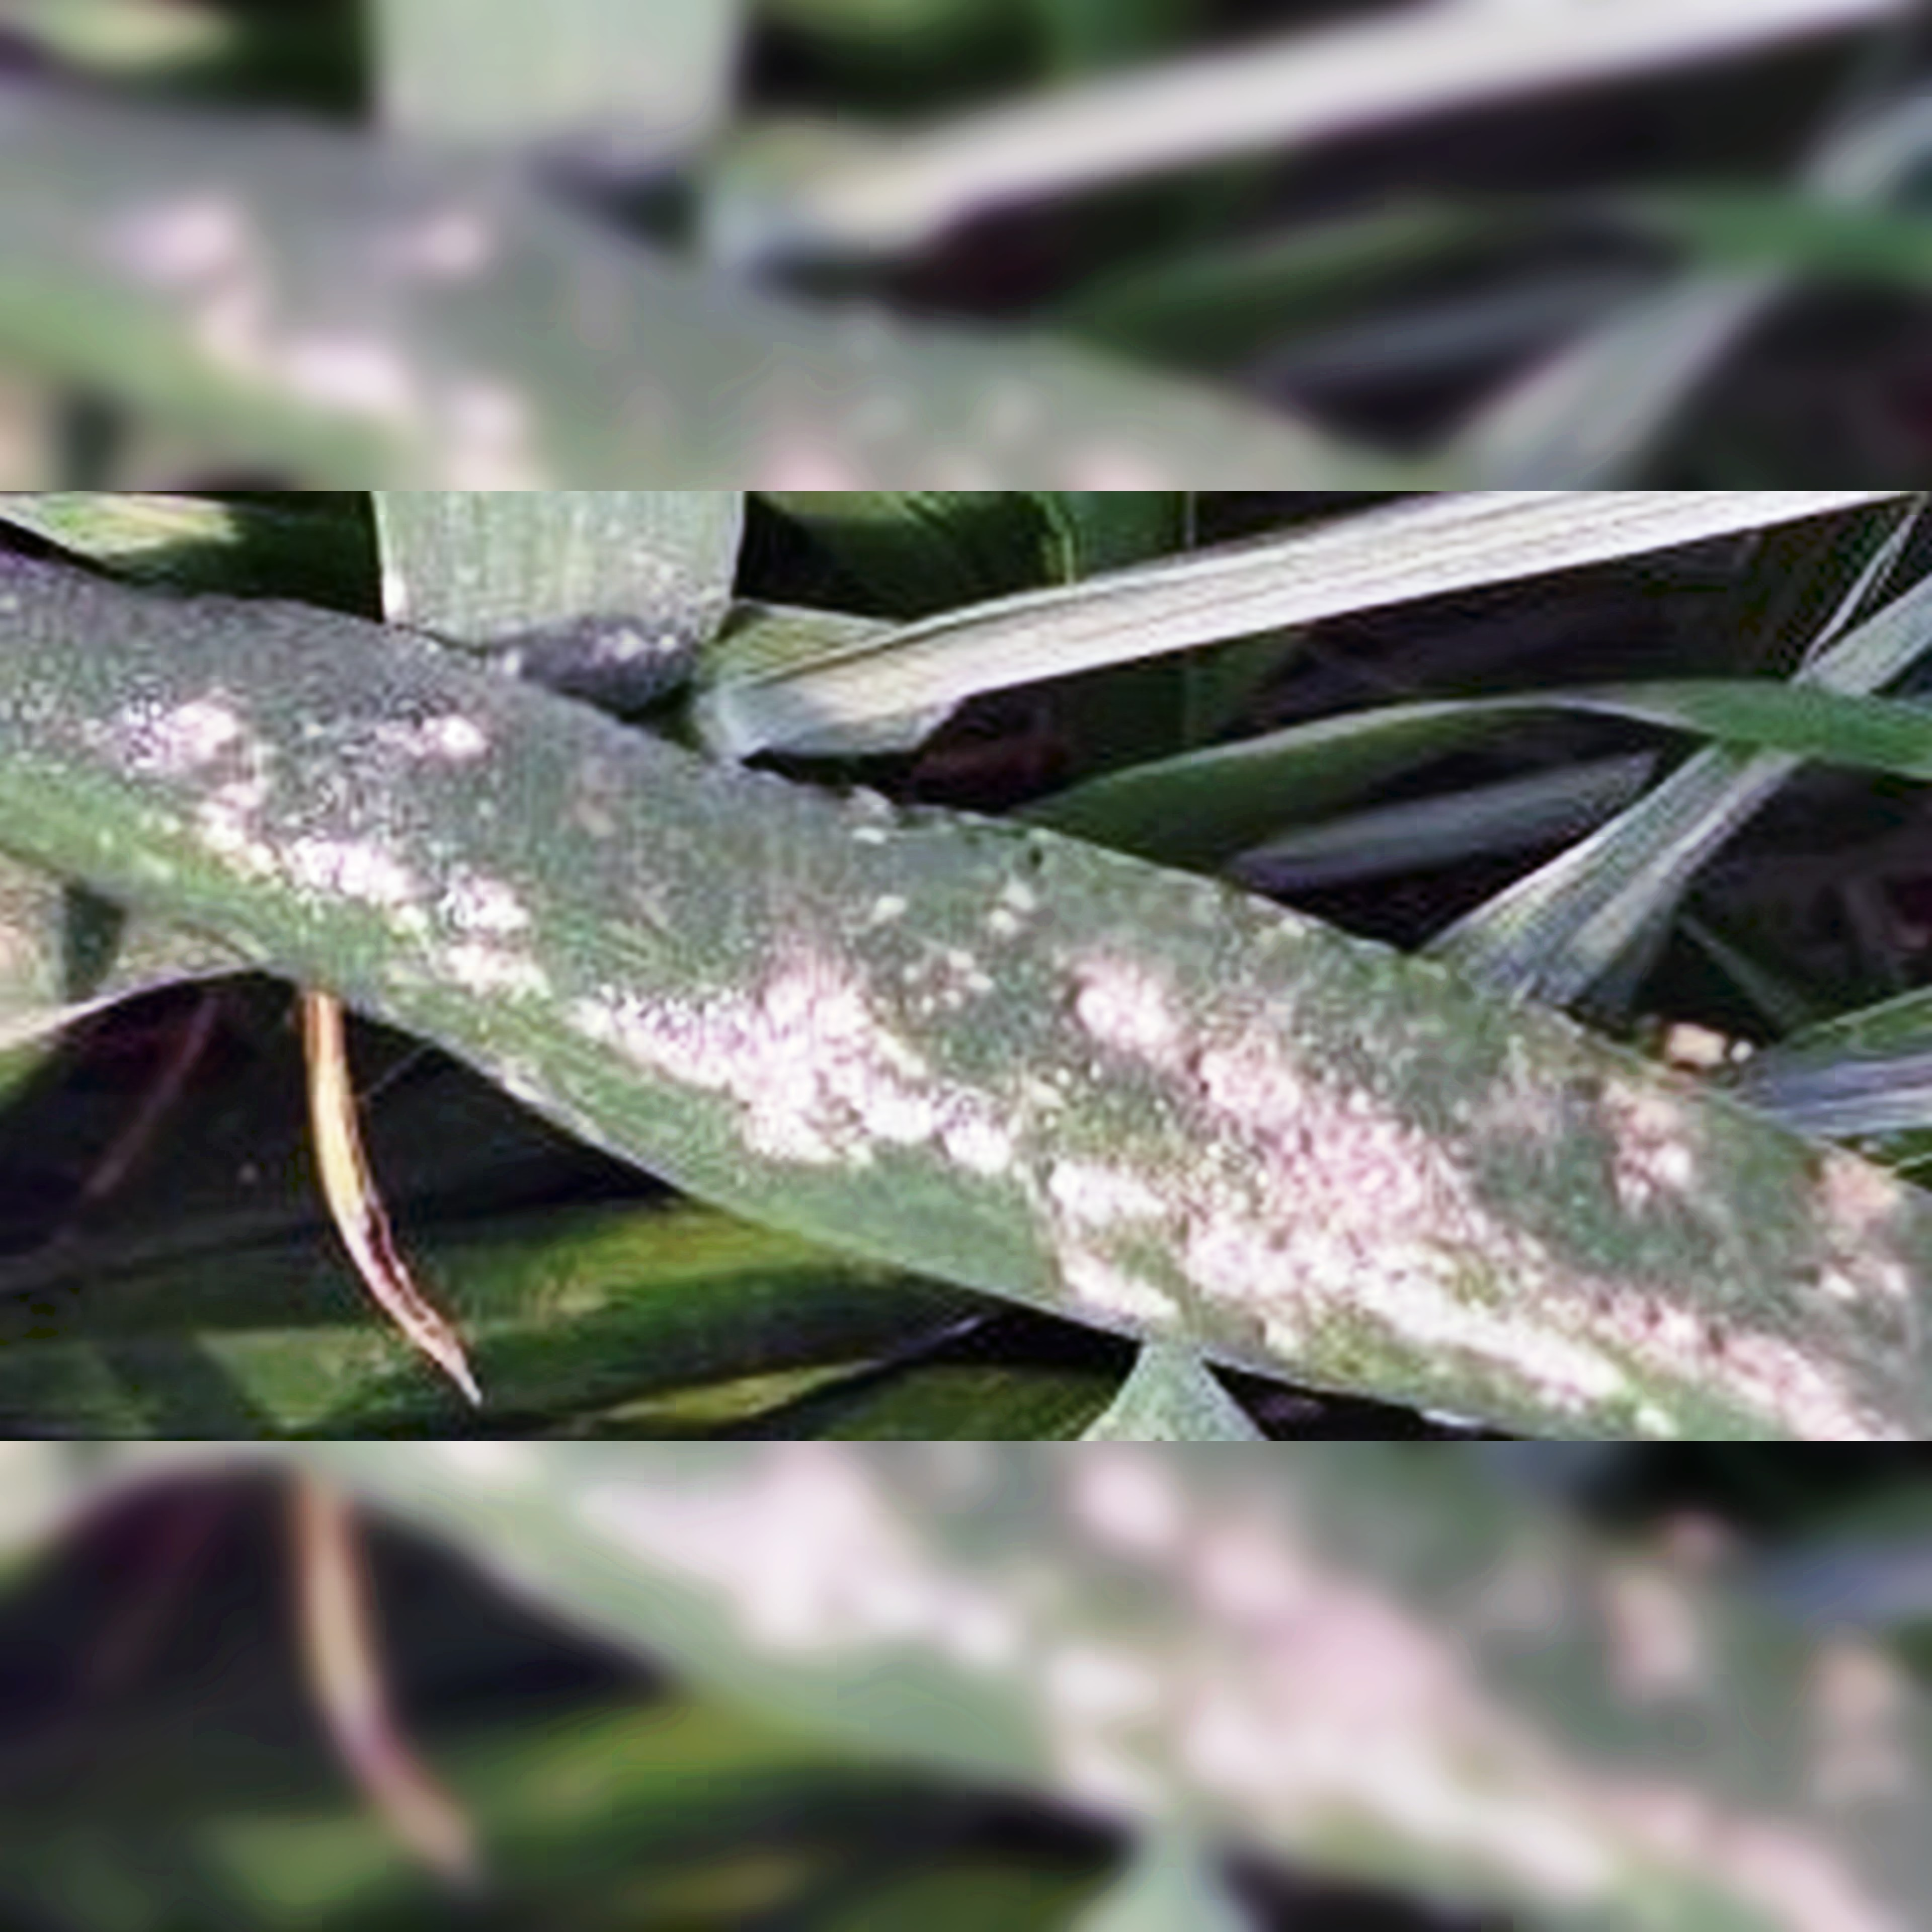Powdery Mildew: (191, 725, 1775, 1380)
